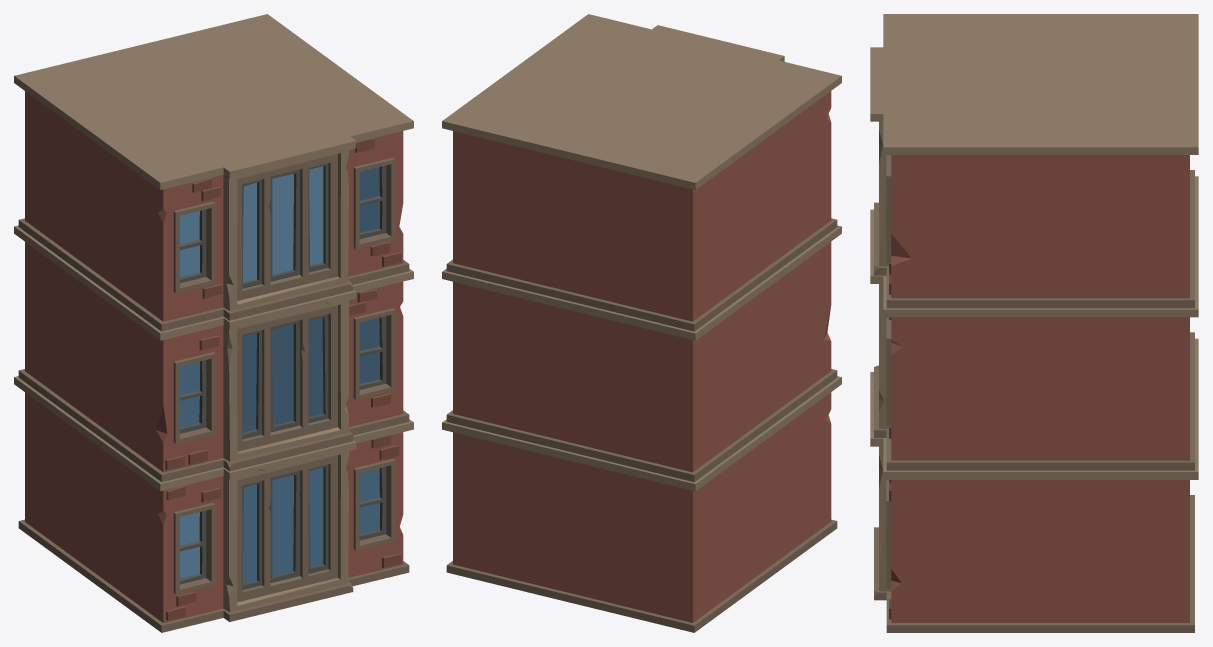
Rendered from SM_Bld_Apartment_Stack_03.obj.
The picture shows the model from 3 angles, left to right: view 1: azimuth 30°, elevation 25°; view 2: azimuth 150°, elevation 25°; view 3: azimuth 270°, elevation 25°; orthographic projection. The views are drawn at different scales.
Visible parts, largest first — view 1: SM_Bld_Apartment_Stack_03_0; view 2: SM_Bld_Apartment_Stack_03_0; view 3: SM_Bld_Apartment_Stack_03_0.
Part boxes in pixels (left/top/right/bottom): SM_Bld_Apartment_Stack_03_0: left=14, top=14, right=413, bottom=632; SM_Bld_Apartment_Stack_03_0: left=442, top=14, right=841, bottom=632; SM_Bld_Apartment_Stack_03_0: left=870, top=14, right=1198, bottom=632.
Size of the model in its own units: 5.28 by 9 by 5.5.
Materials: 1 (1 with a texture image).
